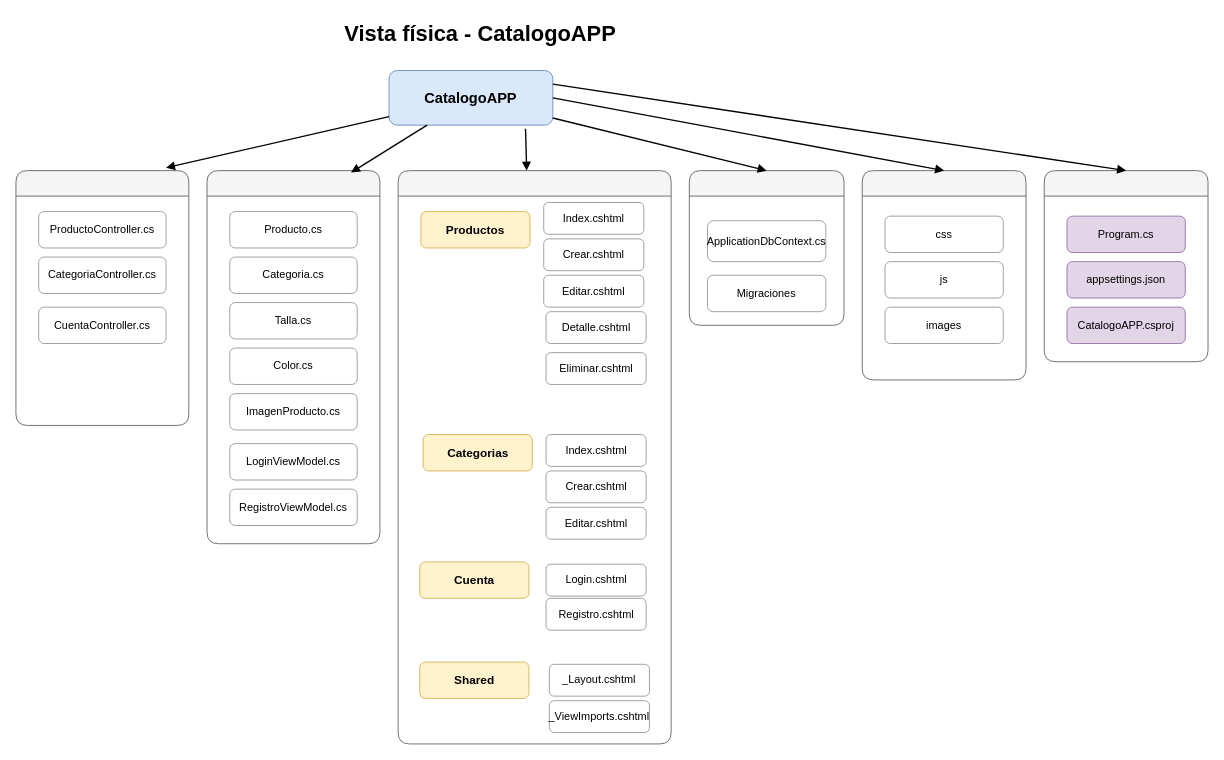
The diagram is 1224 pixels wide and 760 high, and some of its shapes have lost their labels. The box of each missing label's shape, as (x1, y1, x2, y2) in pixels:
Archivos raíz / Configuración: (1043, 170, 1208, 362)
Controllers: (15, 170, 189, 425)
Data: (688, 170, 844, 325)
Models / Entities: (206, 170, 380, 544)
Views: (397, 170, 671, 744)
wwwroot: (861, 170, 1026, 380)
